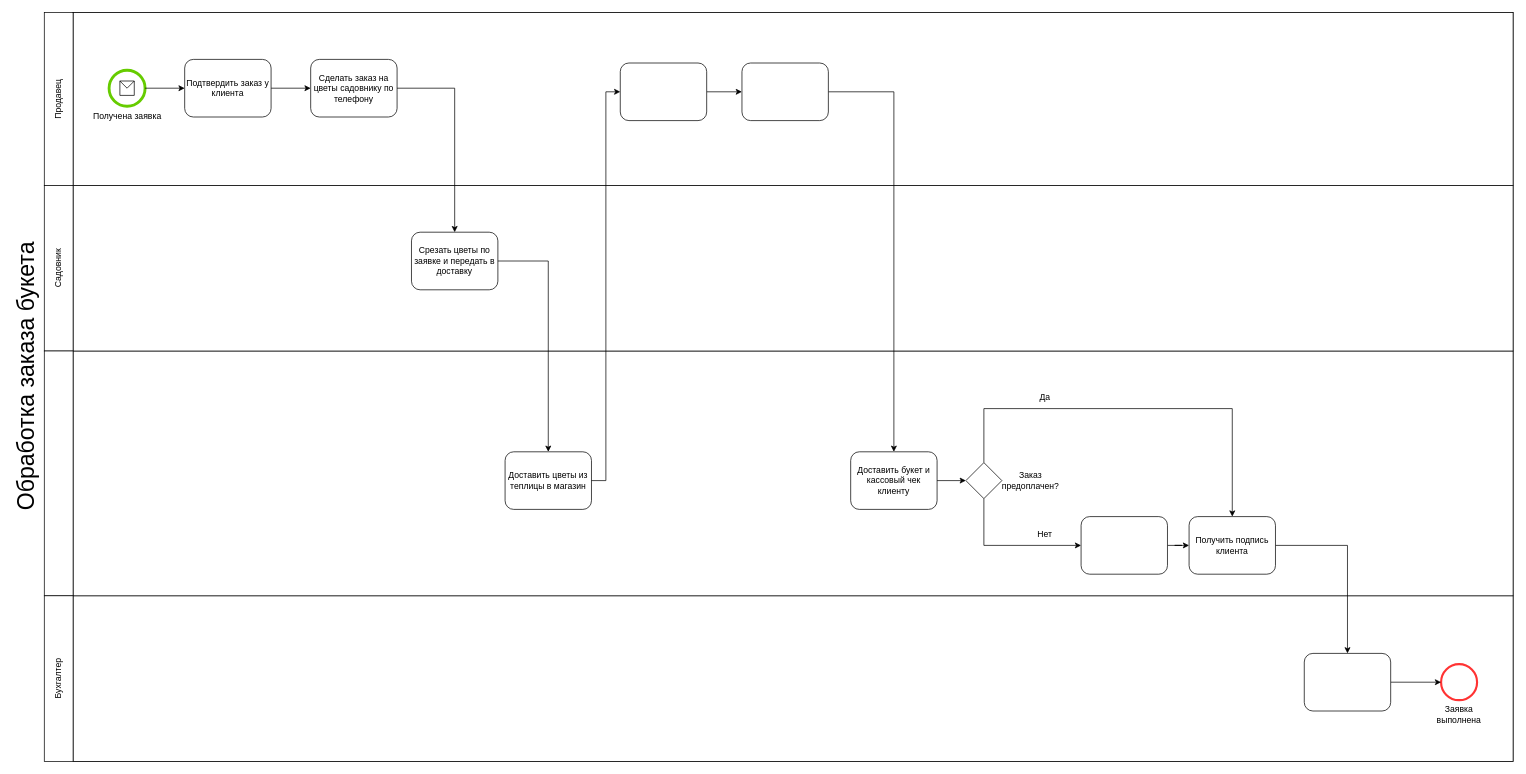
The diagram is 1526 pixels wide and 774 high, and some of its shapes have lost their labels. Here are the shapes that lost their labels. From the top down, the centre of each, then its label:
At (x=663, y=91): "Принять доставку цветов по заявке".
At (x=784, y=91): "Собрать букет, распечатать чек и передать в доставку клиенту".
At (x=58, y=473): "Водитель".
At (x=1123, y=545): "Получить оплату".
At (x=1347, y=682): "Занести данные в 1С".
